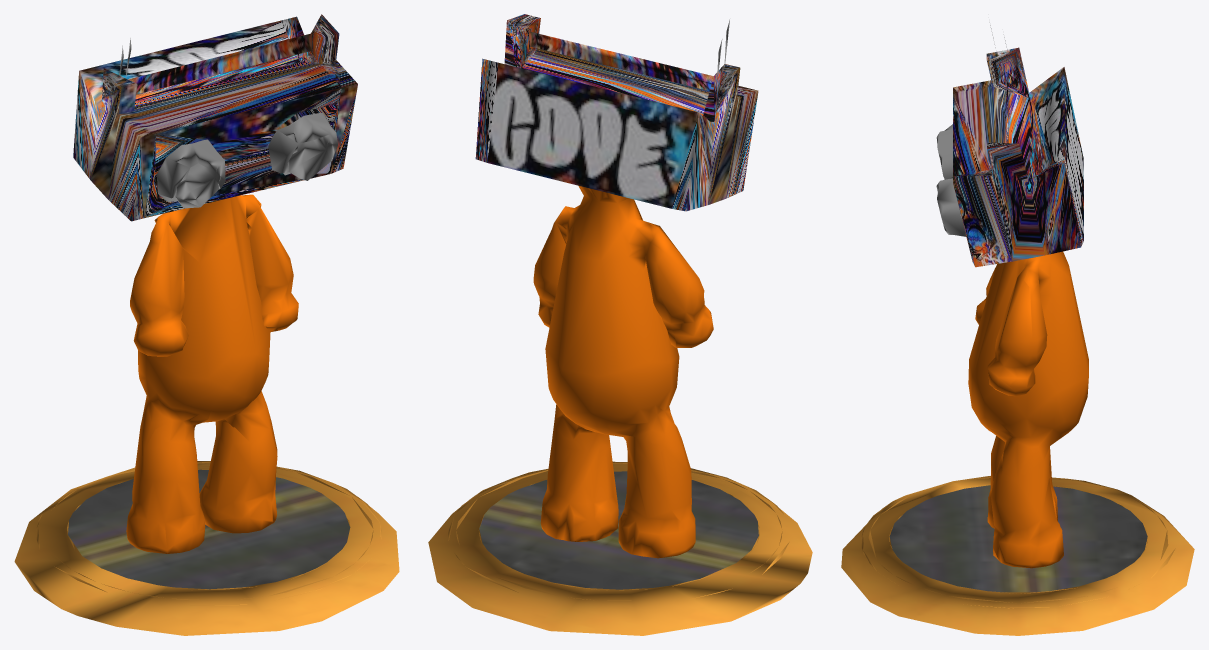
3 renders of one model, left to right at view 1: azimuth 30°, elevation 25°; view 2: azimuth 150°, elevation 25°; view 3: azimuth 270°, elevation 25°, orthographic. The views are drawn at different scales.
Bounding box in the file's own units: 1.45 × 2.27 × 1.44.
5 materials, 3 textured.
